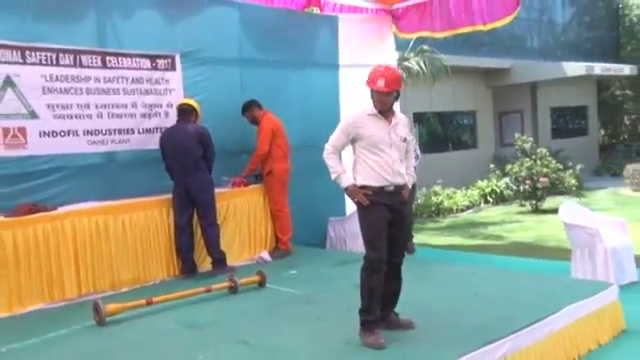helmet: (364, 63, 405, 93), (174, 97, 202, 117)
helmet_off: (238, 95, 267, 127)
helmet_on: (363, 61, 407, 118), (172, 95, 203, 127)
person: (322, 61, 418, 349), (157, 96, 235, 276), (240, 99, 295, 259)
